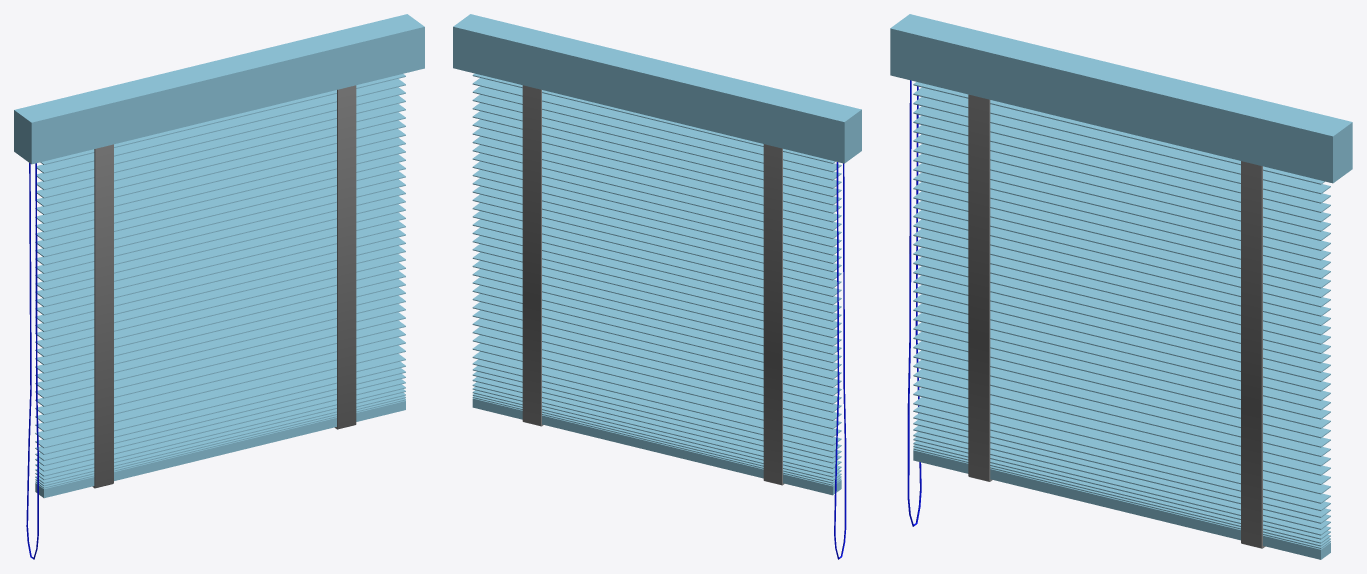
Rendered from PROPS_sunblind_02c.FBX.
3 views of the same model, side by side, from view 1: azimuth 30°, elevation 25°; view 2: azimuth 150°, elevation 25°; view 3: azimuth 330°, elevation 25° (orthographic). The views are drawn at different scales.
Parts seen in each view (by area): view 1: PROPS_sunblind_02c; view 2: PROPS_sunblind_02c; view 3: PROPS_sunblind_02c.
Boxes of the visible parts, x1,y1,x2,y2 form: PROPS_sunblind_02c: (14,14,424,559); PROPS_sunblind_02c: (453,14,861,559); PROPS_sunblind_02c: (890,14,1352,559).
Size of the model in its own units: 164 by 178 by 12.61.
